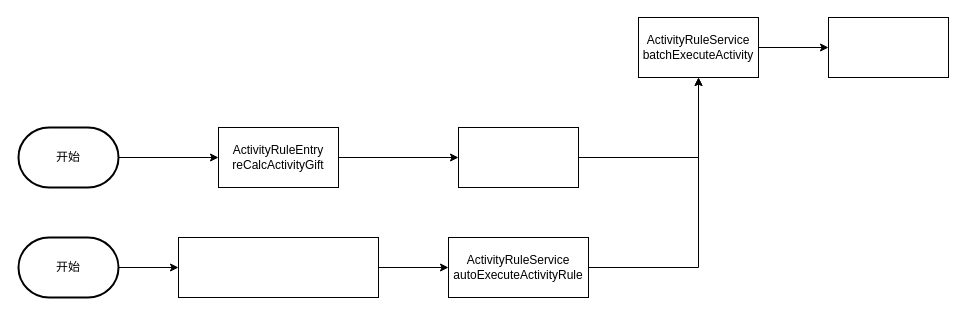
Image size: 966x316. Some labels were removed from this diagram. Here are the shapes that lost their labels. From the top down, the centre of each, then its label:
point (888, 47): 创建交易 ActivityRuleService createTrade
point (518, 157): ActivityRuleService reCalcActivityGift
point (278, 267): 中奖名单 OneMinuteJob setting.strategy.ActivityRuleService
